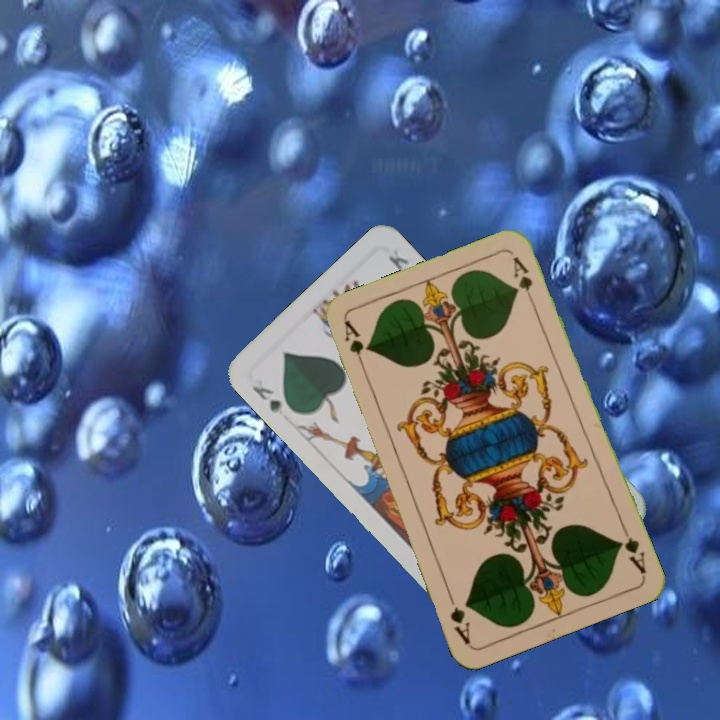GA: (614, 520, 649, 577), (340, 317, 369, 375)
GK: (247, 381, 285, 416)
